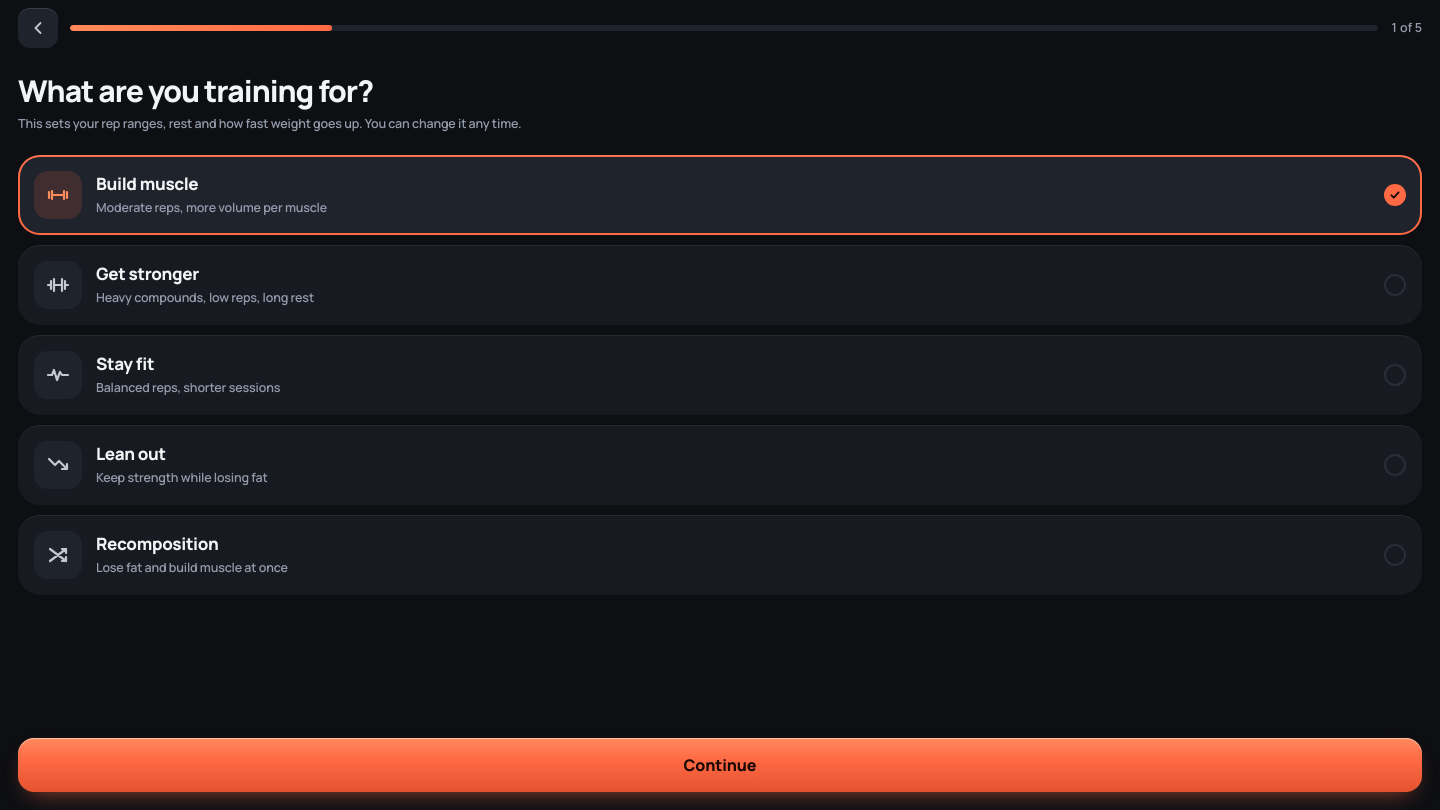
Scenario: Onboarding step 4, A few numbers › names the sex choices by their own words only
The width and height of the screenshot is (1440, 810).
Step 1. Click the button "Continue" → (720, 765), box [18, 738, 1422, 792]
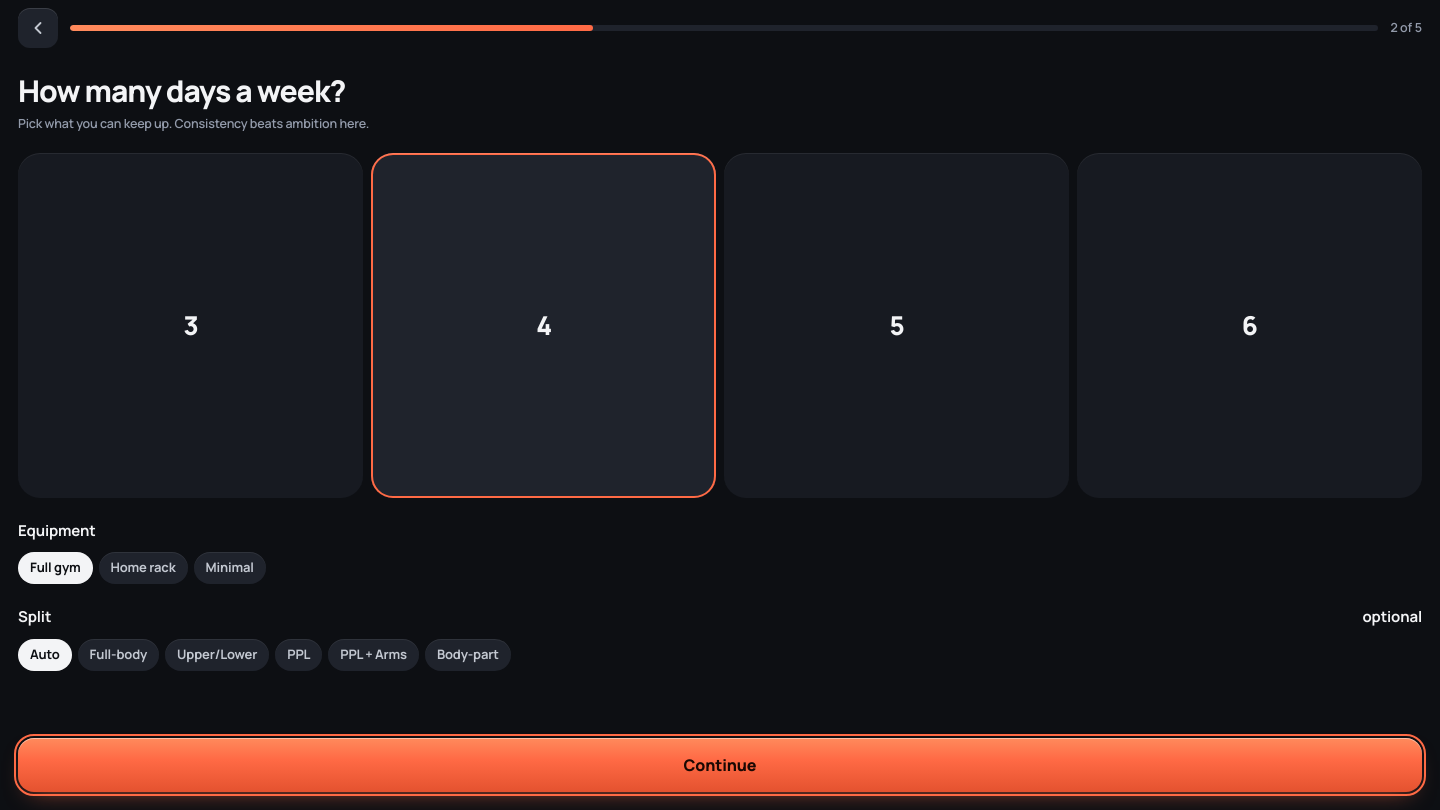
Step 2. Click the button "Continue" → (720, 765), box [18, 738, 1422, 792]
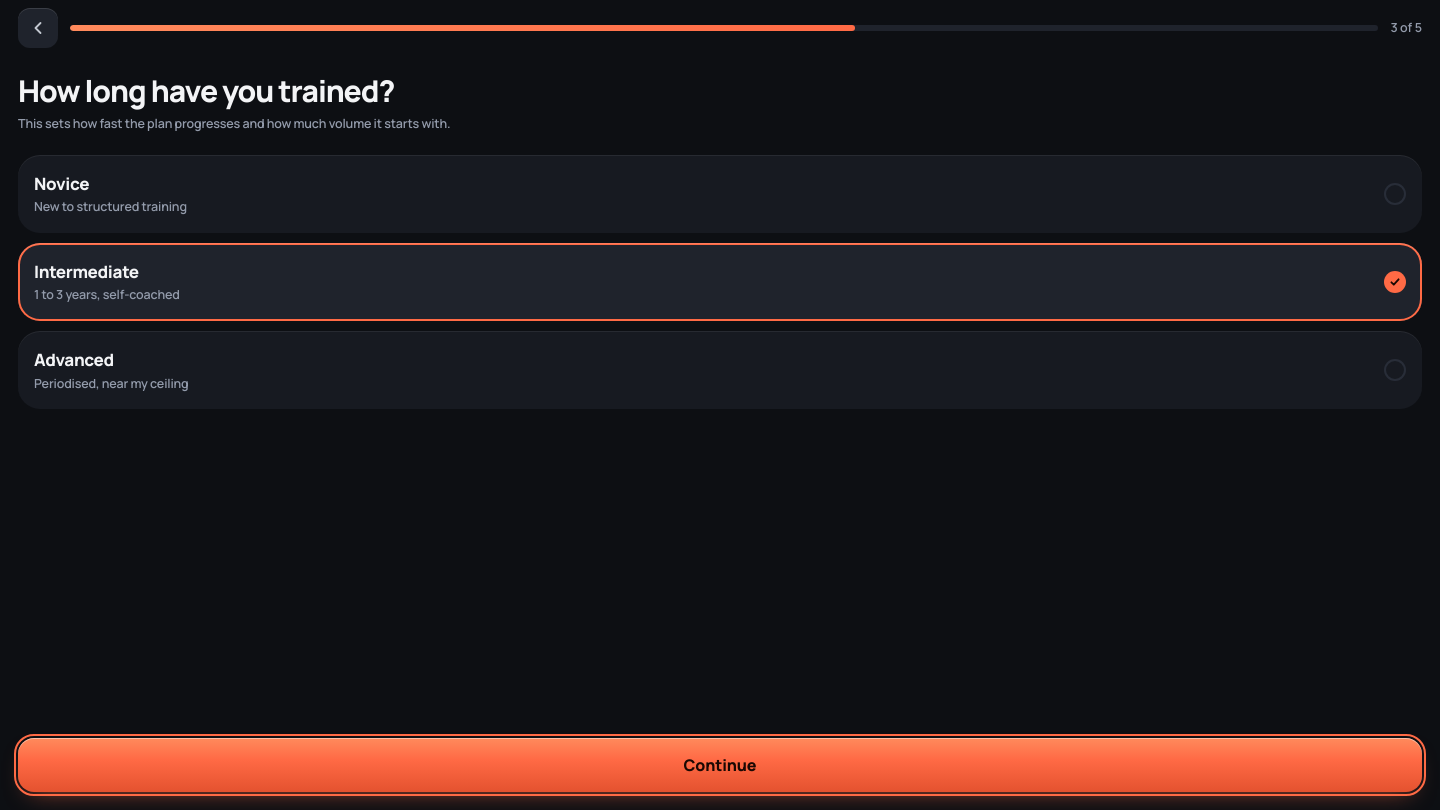
Step 3. Click the button "Continue" → (720, 765), box [18, 738, 1422, 792]
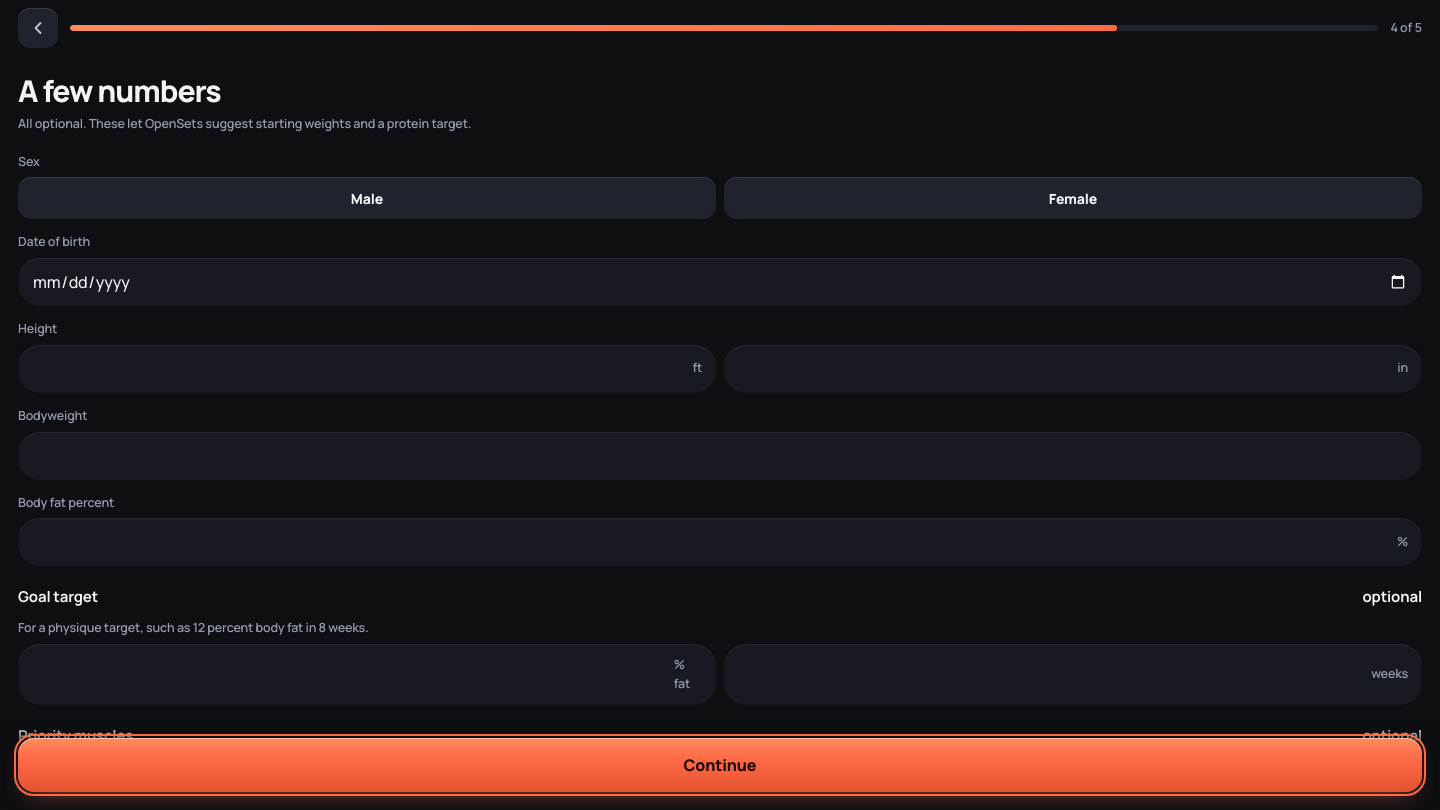
Check: the heading "A few numbers" is shown, box [18, 70, 221, 111]
Check: the radio button labelled "male" is shown, box [18, 177, 716, 219]
Check: the radio button labelled "female" is shown, box [724, 177, 1422, 219]
